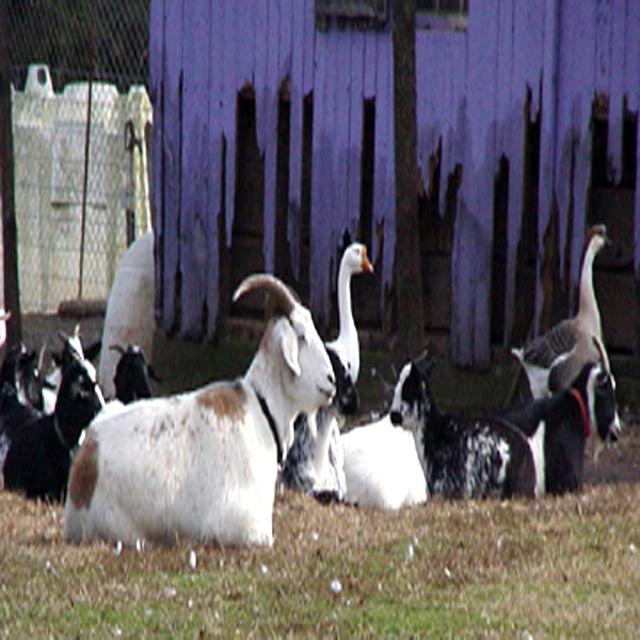Goat: (60, 267, 337, 553)
